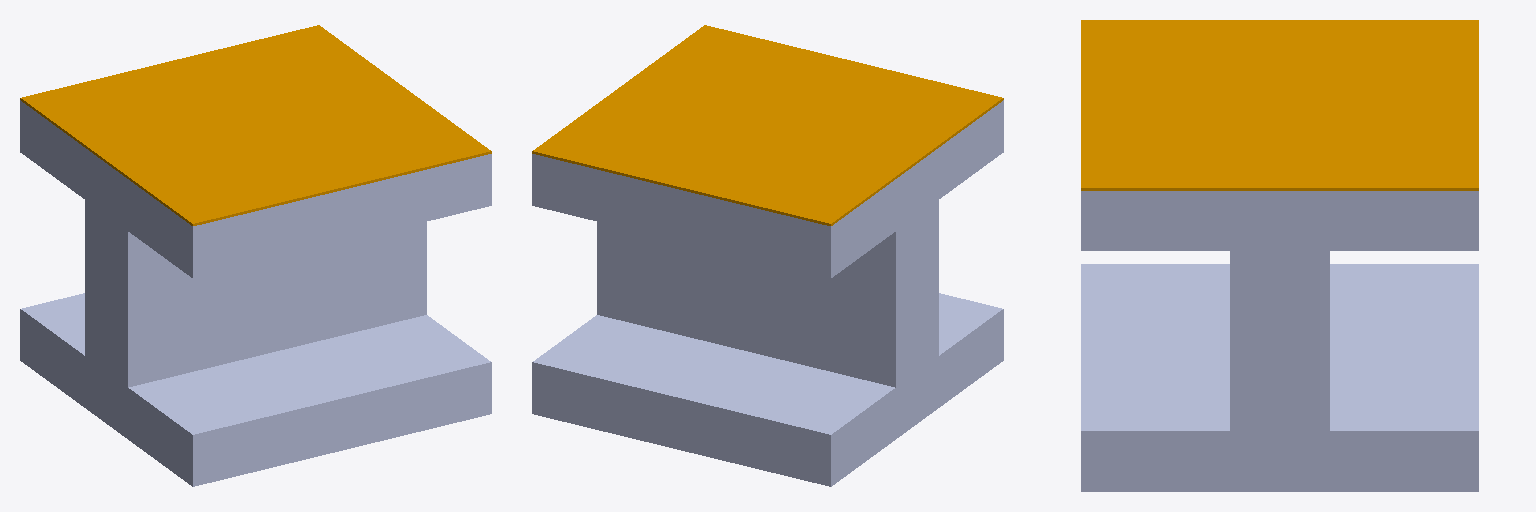
The robot description file, URDF, robot "single_cube_02":
<?xml version="1.0" encoding="utf-8"?>
<!-- This URDF was automatically created by SolidWorks to URDF Exporter! Originally created by Stephen Brawner (brawner@gmail.com) 
     Commit Version: 1.6.0-4-g7f85cfe  Build Version: 1.6.7995.38578
     For more information, please see http://wiki.ros.org/sw_urdf_exporter -->
<robot
  name="single_cube_02">
  <link
    name="marker_id_12">
    <inertial>
      <origin
        xyz="-5.2042E-18 -1.3878E-17 -0.0005"
        rpy="0 0 0" />
      <mass
        value="0.0144" />
      <inertia
        ixx="1.7281E-05"
        ixy="9.035E-22"
        ixz="3.1546E-36"
        iyy="1.7281E-05"
        iyz="-6.0329E-20"
        izz="3.456E-05" />
    </inertial>
    <visual>
      <origin
        xyz="0 0 0"
        rpy="0 0 0" />
      <geometry>
        <mesh
          filename="package://robot_custom_description/models/markers/marker_12.dae" />
      </geometry>
    </visual>
  </link>
  <link
    name="single_cube_02/cube_link">
    <inertial>
      <origin
        xyz="-1.7347E-18 -1.3878E-17 1.3878E-17"
        rpy="0 0 0" />
      <mass
        value="0.2" />
      <inertia
        ixx="0.001713"
        ixy="2.8354E-19"
        ixz="-9.9494E-20"
        iyy="0.001956"
        iyz="1.0676E-18"
        izz="0.0016578" />
    </inertial>
    <visual>
      <origin
        xyz="0 0 0"
        rpy="0 0 0" />
      <geometry>
        <mesh
          filename="package://robot_custom_description/models/single_cube_02/meshes/cube_link.STL" />
      </geometry>
      <material
        name="">
        <color
          rgba="0.79216 0.81961 0.93333 1" />
      </material>
    </visual>
    <collision>
      <origin
        xyz="0 0 0"
        rpy="0 0 0" />
      <geometry>
        <mesh
          filename="package://robot_custom_description/models/single_cube_02/meshes/cube_link.STL" />
      </geometry>
    </collision>
  </link>
  <joint
    name="single_cube_02/cube_joint"
    type="fixed">
    <origin
      xyz="0 0 -0.051"
      rpy="0 0 0" />
    <parent
      link="marker_id_12" />
    <child
      link="single_cube_02/cube_link" />
    <axis
      xyz="0 0 0" />
  </joint>
</robot>

--- What the picture shows (computed from the rendered views, not written in the file) ---
The picture shows the robot from 3 angles, left to right: view 1: azimuth 30°, elevation 25°; view 2: azimuth 150°, elevation 25°; view 3: azimuth 270°, elevation 25°; orthographic projection.
Robot: single_cube_02 — 2 links, 1 joints (1 fixed); root link marker_id_12; default pose: every joint at zero.
Links seen in each view (by area): view 1: single_cube_02/cube_link, marker_id_12; view 2: single_cube_02/cube_link, marker_id_12; view 3: single_cube_02/cube_link, marker_id_12.
Link boxes in pixels (bbox=[...]): single_cube_02/cube_link: bbox=[20, 100, 491, 486]; marker_id_12: bbox=[20, 25, 491, 225]; single_cube_02/cube_link: bbox=[532, 100, 1003, 486]; marker_id_12: bbox=[532, 25, 1003, 225]; single_cube_02/cube_link: bbox=[1081, 191, 1478, 491]; marker_id_12: bbox=[1081, 20, 1478, 190].
Bounding box of the posed robot: 0.12 × 0.12 × 0.101 m (x, y, z).
2 mesh visuals loaded from 2 distinct referenced files (1 binary STL, 1 Collada DAE).
